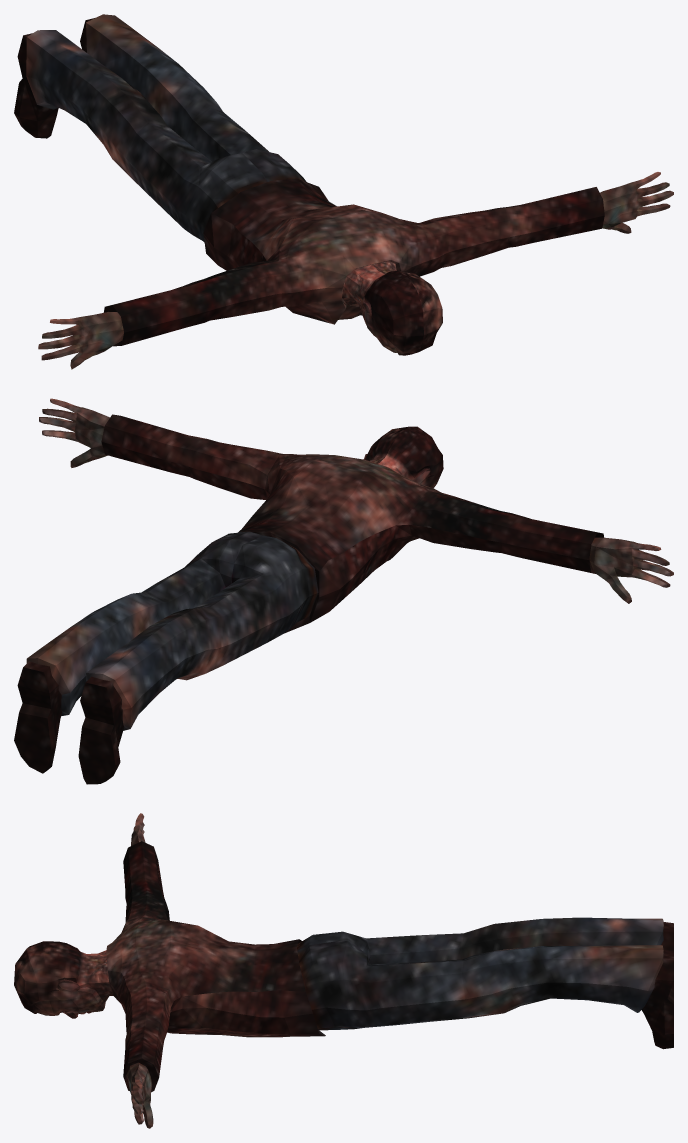
File: tomdrinman5handjive_wtf.obj
The picture shows the model from 3 angles, top to bottom: view 1: azimuth 30°, elevation 25°; view 2: azimuth 150°, elevation 25°; view 3: azimuth 270°, elevation 25°; orthographic projection. The views are drawn at different scales.
Parts seen in each view (by area): view 1: group1; view 2: group1; view 3: group1.
Boxes of the visible parts, x1=… form: group1: x1=14, y1=14, x2=673, y2=369; group1: x1=14, y1=398, x2=673, y2=784; group1: x1=14, y1=813, x2=673, y2=1128.
Size of the model in its own units: 660 by 113 by 647.
